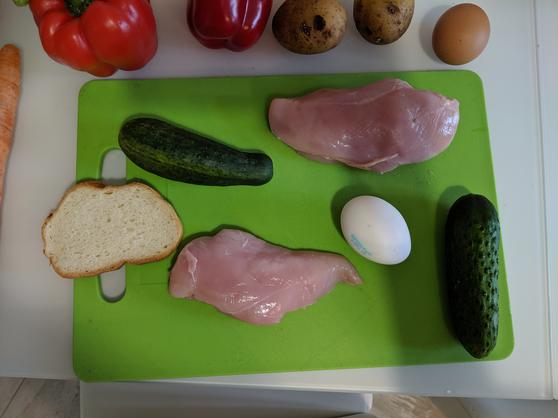chicken_fillet: (168, 227, 362, 326), (264, 76, 460, 172)
cucumber: (117, 115, 275, 187), (443, 194, 504, 358)
egg: (340, 191, 413, 265), (433, 4, 490, 64)
pepper: (29, 1, 158, 77), (186, 1, 268, 53)
potato: (272, 2, 347, 53), (355, 1, 414, 45)
white_bread: (41, 179, 185, 277)
